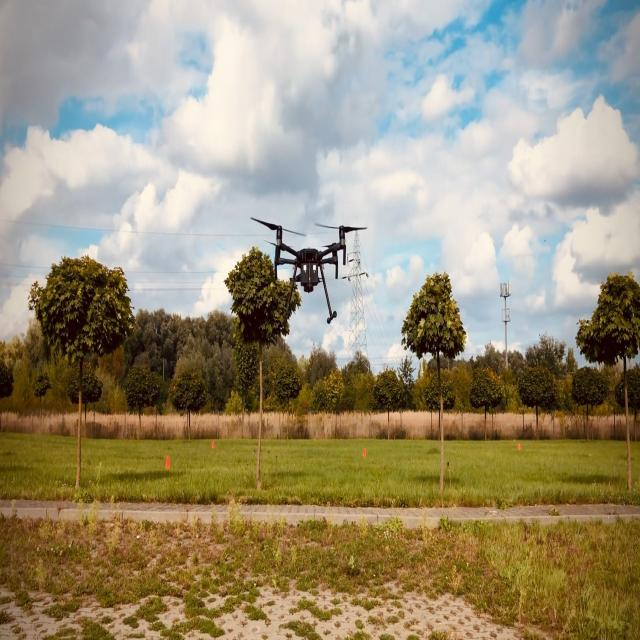drone: (250, 216, 368, 325)
